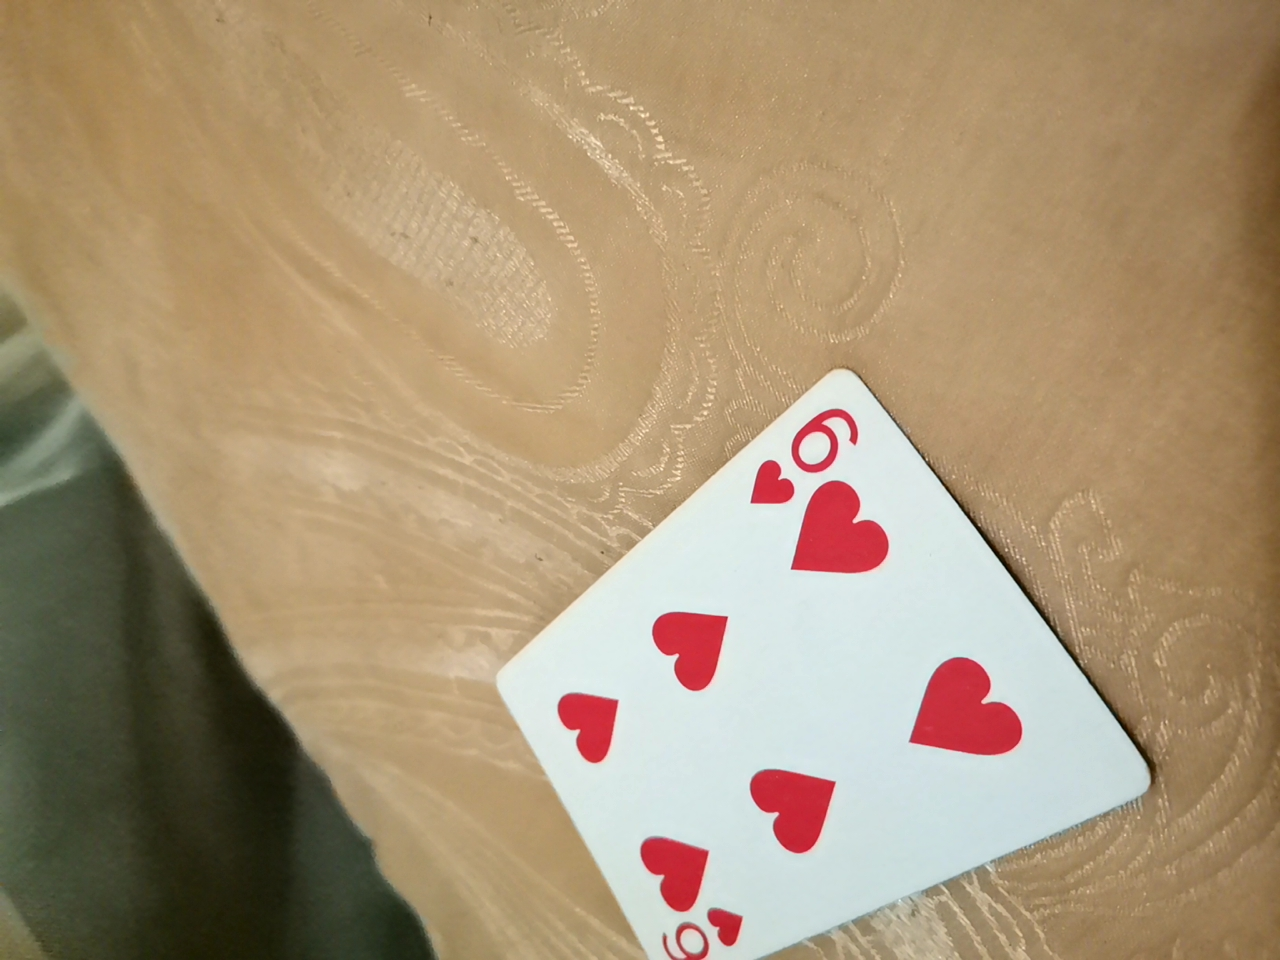hx 6: (454, 371, 1136, 960)
